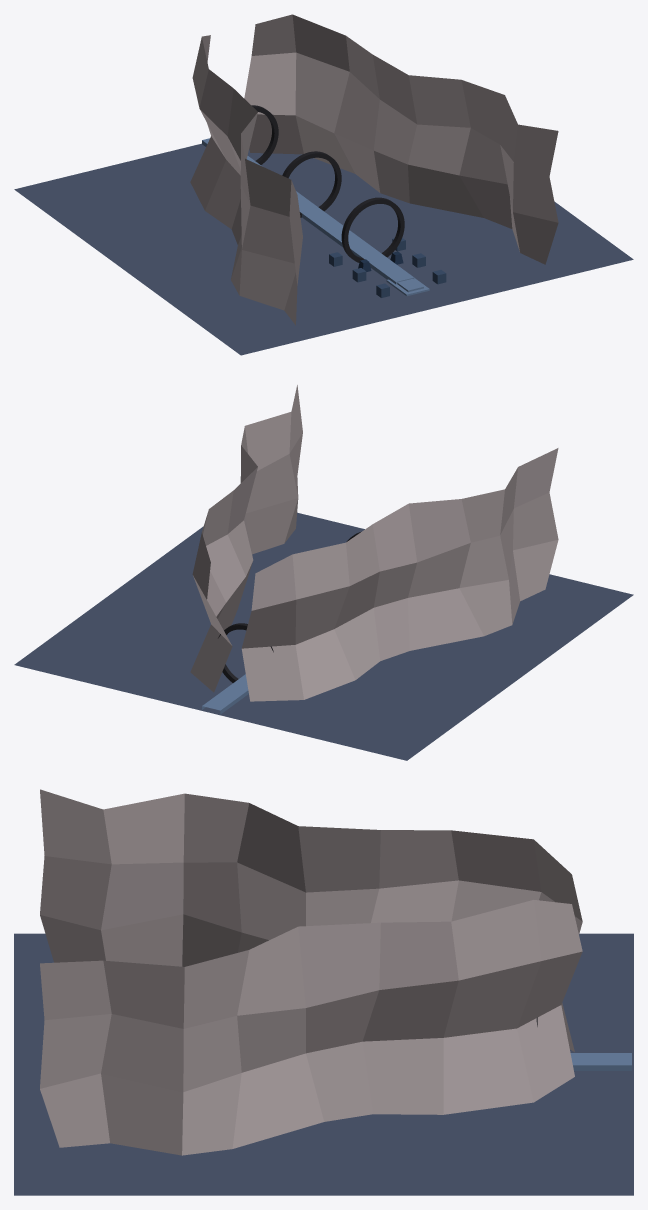
Rendered from entrance_scene.glb.
The picture shows the model from 3 angles, top to bottom: view 1: azimuth 30°, elevation 25°; view 2: azimuth 150°, elevation 25°; view 3: azimuth 270°, elevation 25°; orthographic projection. The views are drawn at different scales.
Visible parts, largest first — view 1: mountain_wall, ground, ring, platform_path, pot_flower; view 2: mountain_wall, ground, platform_path; view 3: mountain_wall, ground, platform_path.
Boxes of the visible parts, x1=… form: mountain_wall: x1=190, y1=14, x2=558, y2=325; ground: x1=14, y1=143, x2=633, y2=355; ring: x1=251, y1=105, x2=404, y2=262; platform_path: x1=202, y1=138, x2=414, y2=284; pot_flower: x1=329, y1=238, x2=446, y2=297; mountain_wall: x1=190, y1=385, x2=558, y2=701; ground: x1=14, y1=512, x2=633, y2=760; platform_path: x1=202, y1=674, x2=248, y2=714; mountain_wall: x1=40, y1=789, x2=582, y2=1155; ground: x1=14, y1=933, x2=633, y2=1195; platform_path: x1=570, y1=1053, x2=631, y2=1070.
Bounding box in the file's own units: 45 × 15.87 × 45.
